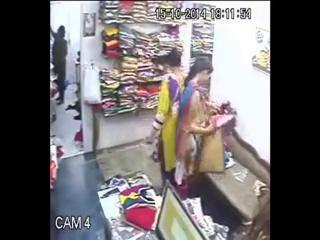shoplifting: (182, 55, 234, 188)
